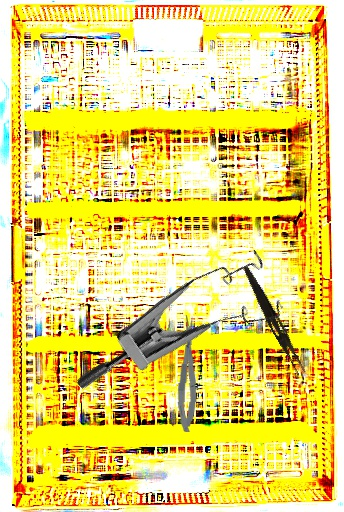Dressing Forceps: (237, 264, 310, 377)
Micro Scissor: (175, 314, 202, 433)
Speculum: (72, 219, 303, 455)
